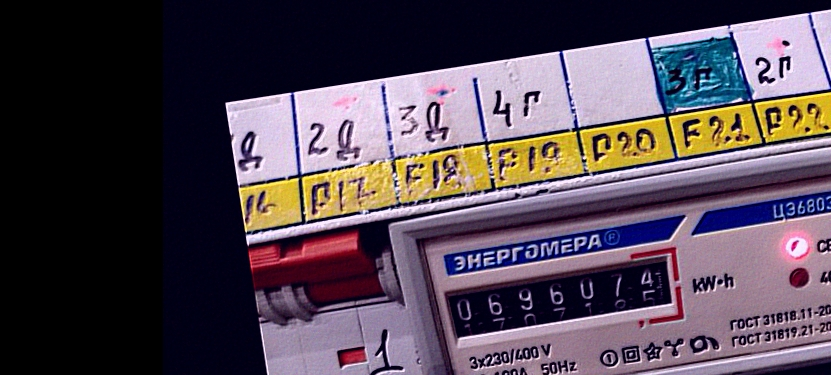0: (453, 295, 476, 323), (578, 274, 598, 302)
4: (638, 263, 658, 290)
5: (642, 287, 660, 307)
6: (485, 288, 508, 318), (547, 280, 567, 307)
7: (607, 270, 629, 298)
9: (515, 285, 538, 312)
screen: (432, 241, 693, 359)
